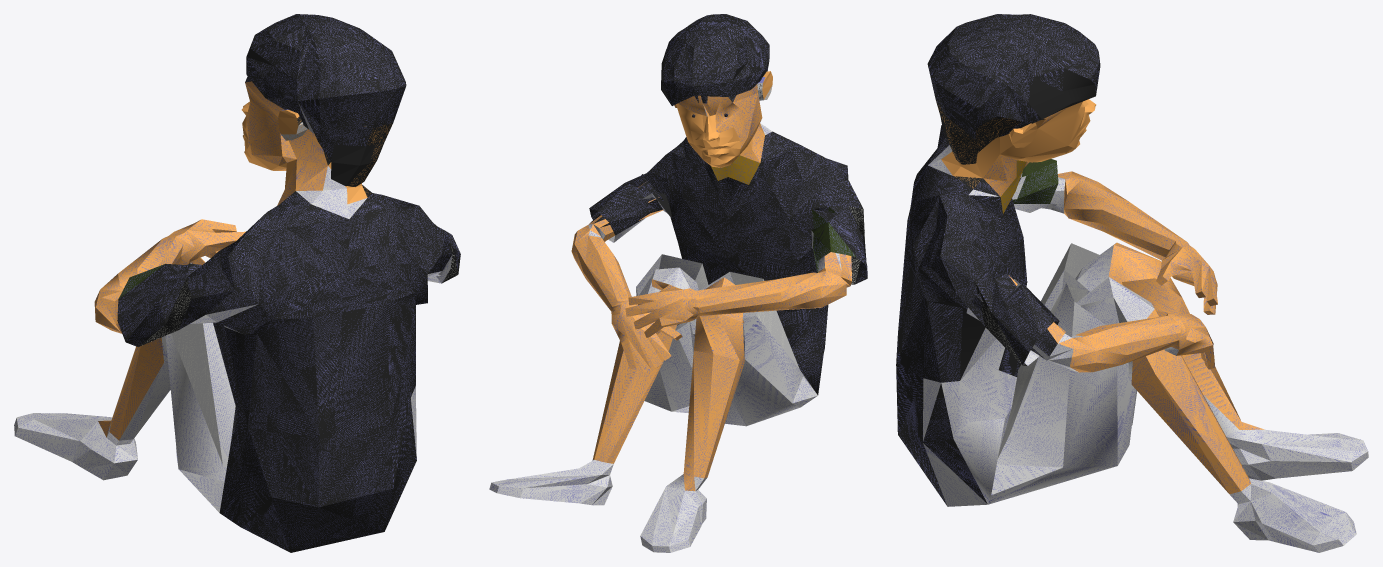
Rendered from boy.dae.
3 views of the same model, side by side, from view 1: azimuth 30°, elevation 25°; view 2: azimuth 150°, elevation 25°; view 3: azimuth 270°, elevation 25° (orthographic). The views are drawn at different scales.
Parts seen in each view (by area): view 1: SketchUp (×16); view 2: SketchUp (×17); view 3: SketchUp (×24).
Boxes of the visible parts, x1,y1,x2,y2 form: SketchUp (×16): (14,14,460,552); SketchUp (×17): (489,14,867,552); SketchUp (×24): (896,14,1368,552).
Size of the model in its own units: 61.36 by 75.11 by 87.87.
